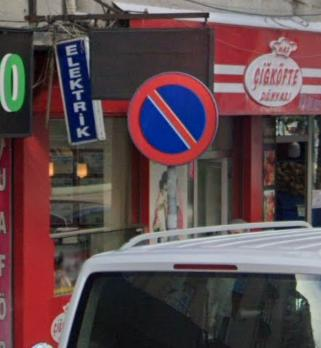nopark: (128, 72, 218, 164)
